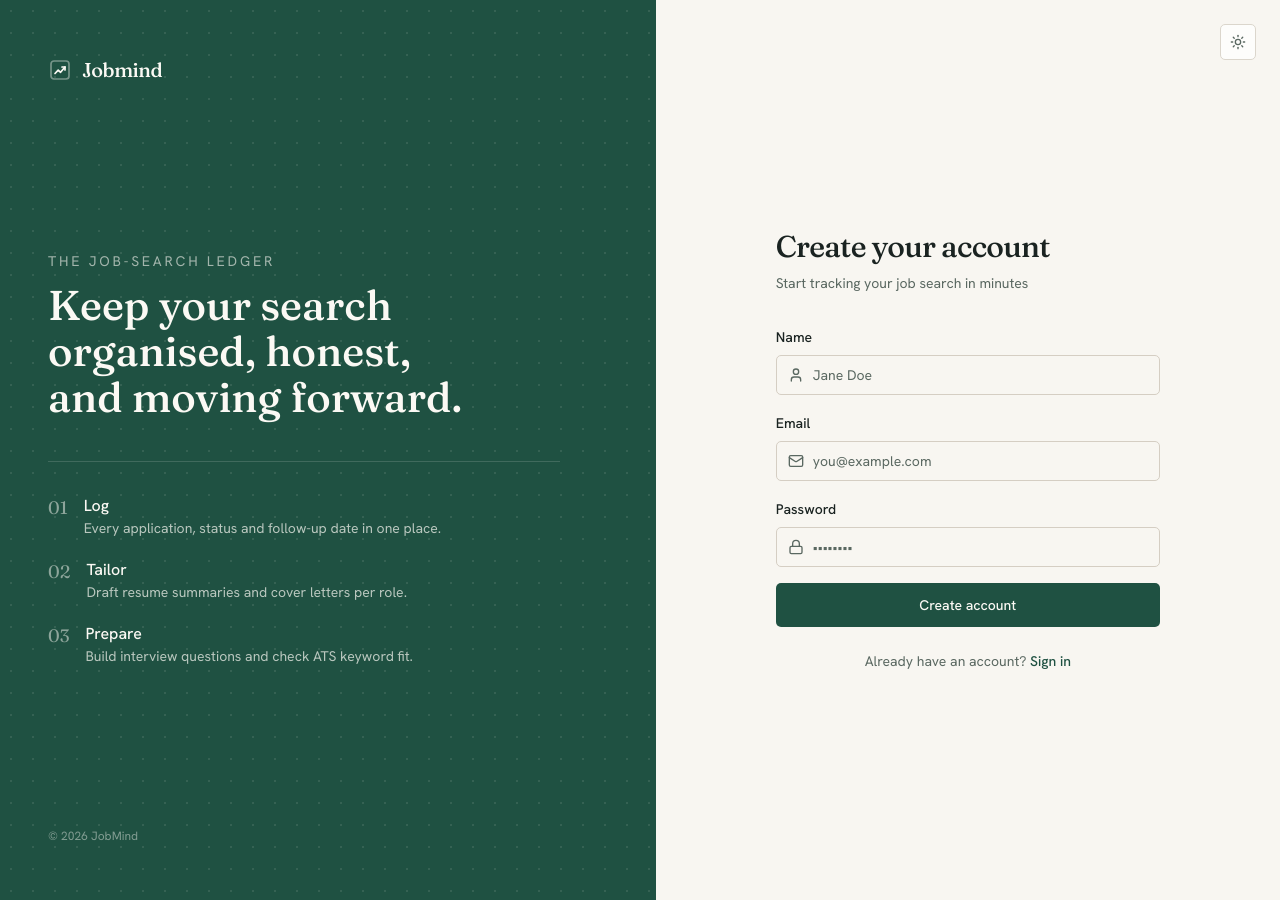
Test: Register Component › should show password strength indicator when typing
The width and height of the screenshot is (1280, 900).
In the password field labelled "Password": (968, 547) [776,527,1160,567], type "Password1"
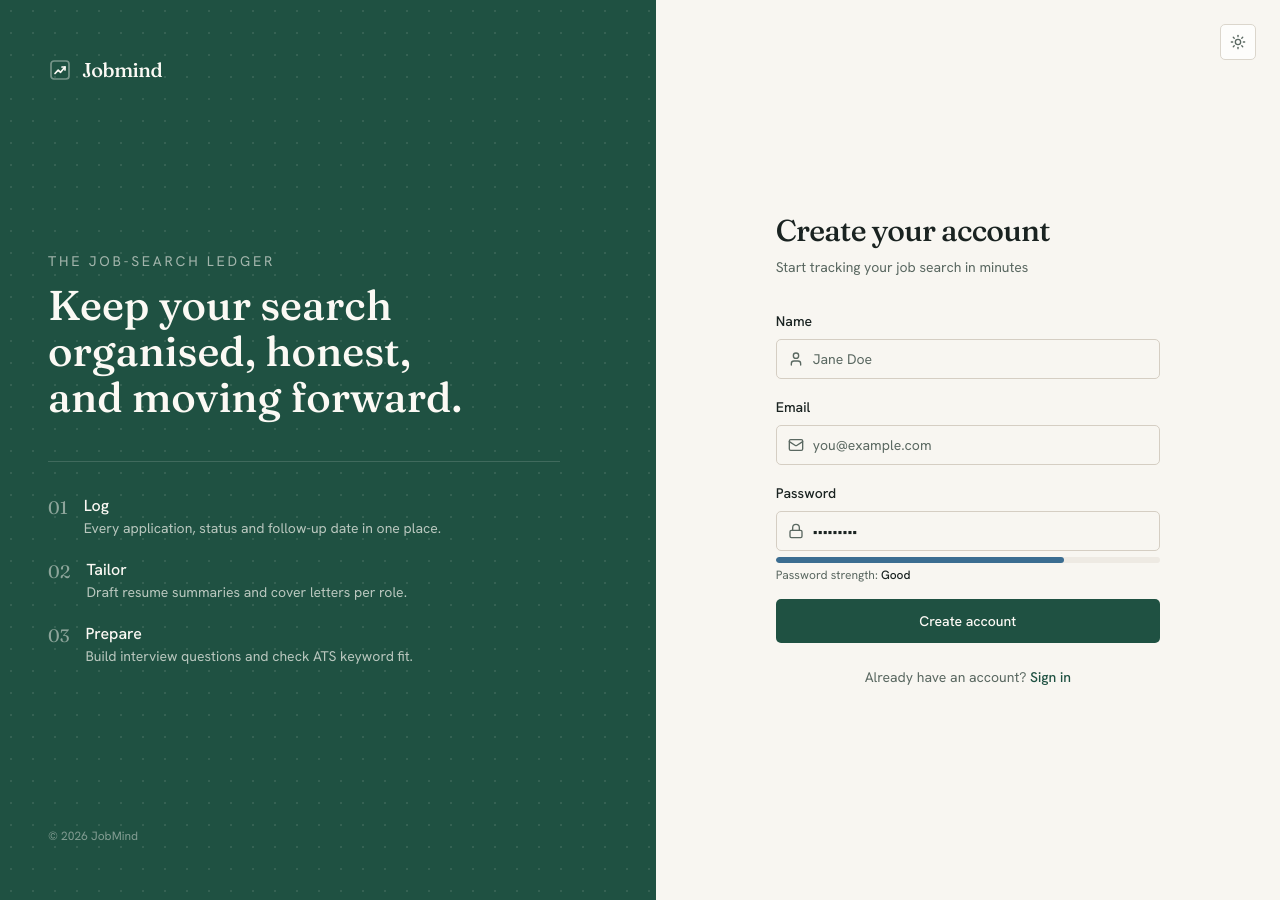
Result: the text "Good" is shown at [881,567,910,583]
